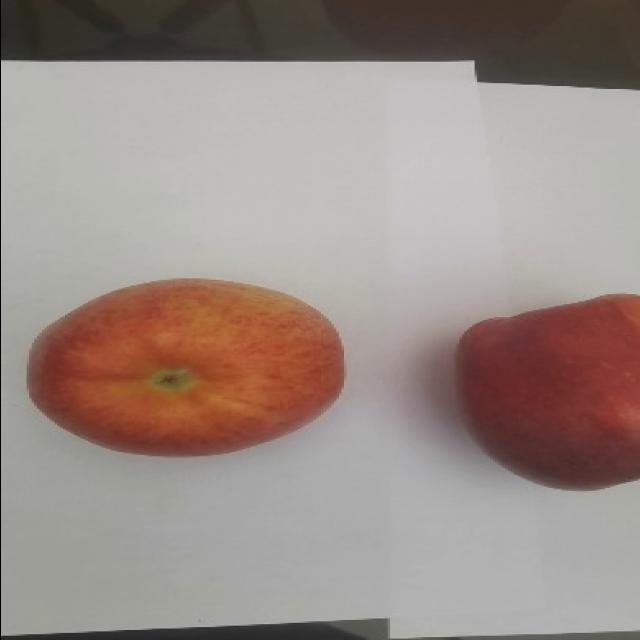Apple: (25, 276, 345, 457), (454, 291, 639, 491)
